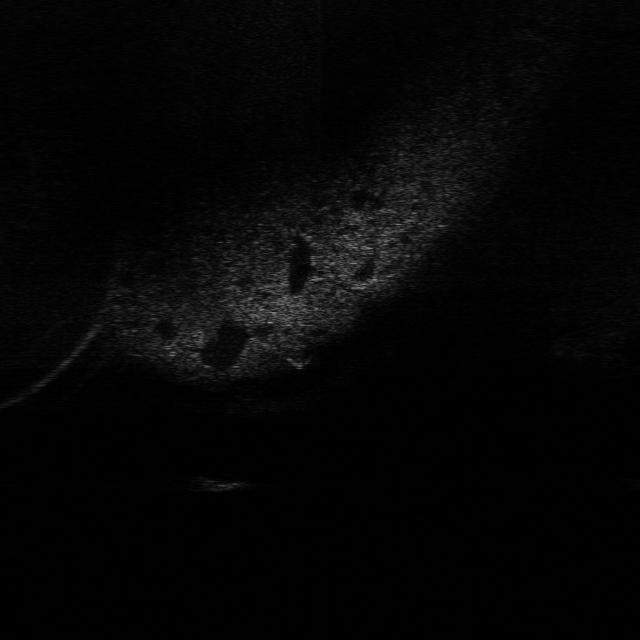ball: (278, 339, 314, 370)
cube: (190, 470, 256, 494)
